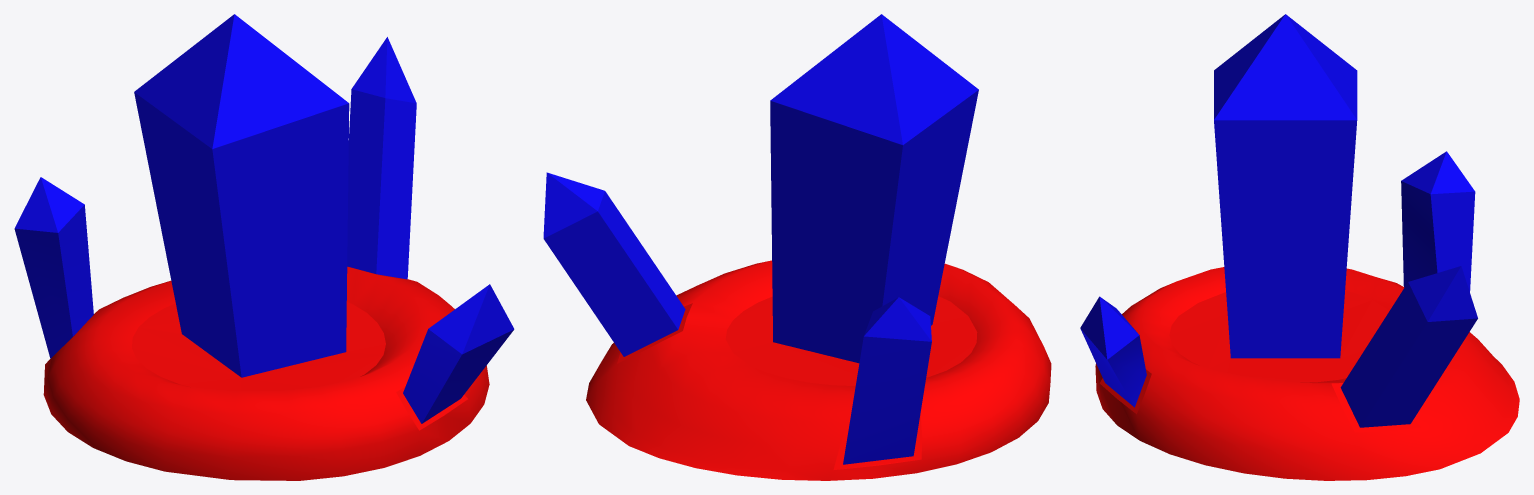
File: CrystalCluster_ColorID.fbx
The picture shows the model from 3 angles, left to right: view 1: azimuth 30°, elevation 25°; view 2: azimuth 150°, elevation 25°; view 3: azimuth 270°, elevation 25°; orthographic projection. The views are drawn at different scales.
Parts seen in each view (by area): view 1: Crystal Cluster; view 2: Crystal Cluster; view 3: Crystal Cluster.
Boxes of the visible parts, x1,y1,x2,y2 form: Crystal Cluster: (14, 14, 514, 480); Crystal Cluster: (543, 14, 1051, 480); Crystal Cluster: (1080, 14, 1519, 480).
Bounding box in the file's own units: 119 × 107 × 119.
